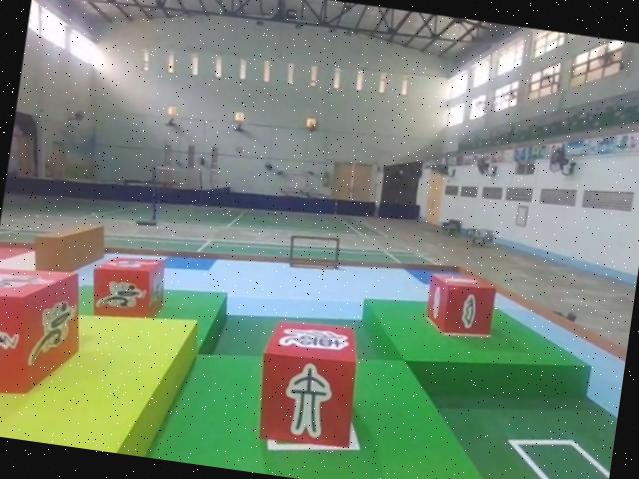R1: (0, 255, 89, 413), (84, 249, 174, 328)
R2 Fake: (248, 316, 368, 454)
R2 Real: (422, 269, 501, 343)
